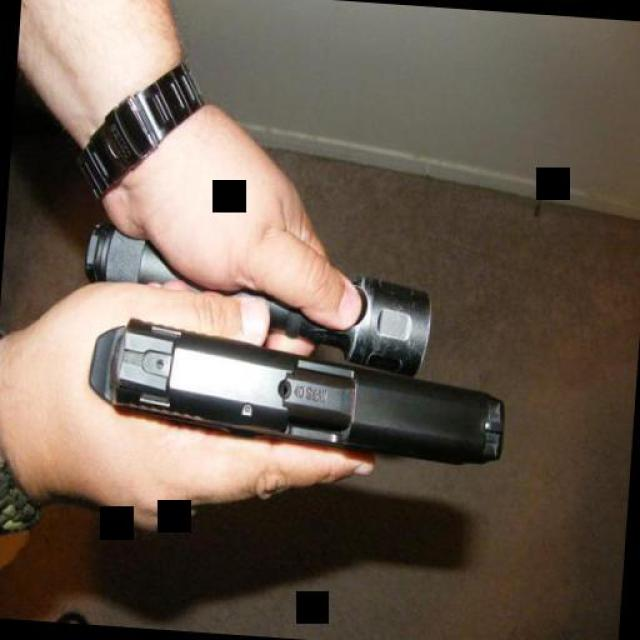gun: (82, 314, 510, 475)
